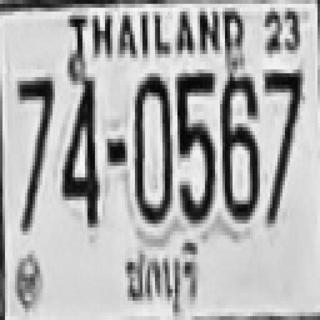N00: (132, 73, 170, 220)
N04: (60, 65, 98, 224)
N05: (175, 69, 212, 220)
N06: (220, 71, 258, 218)
N07: (262, 66, 300, 220), (15, 75, 52, 229), (15, 75, 52, 210), (15, 75, 52, 179)
P13: (119, 237, 204, 320)
